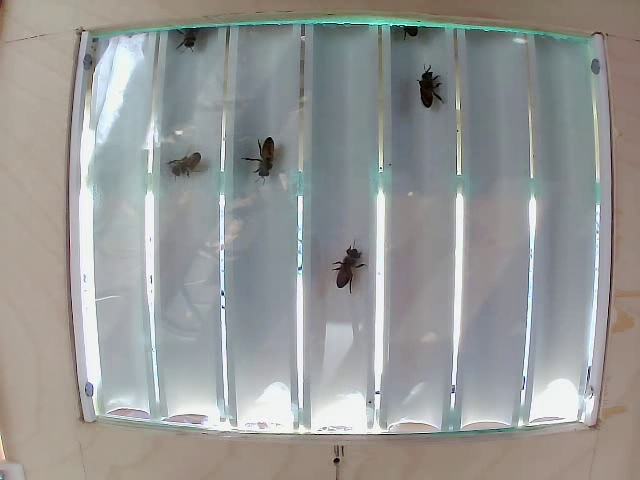bee: (336, 249, 363, 302), (166, 148, 203, 183), (253, 140, 283, 182), (412, 72, 438, 107)
